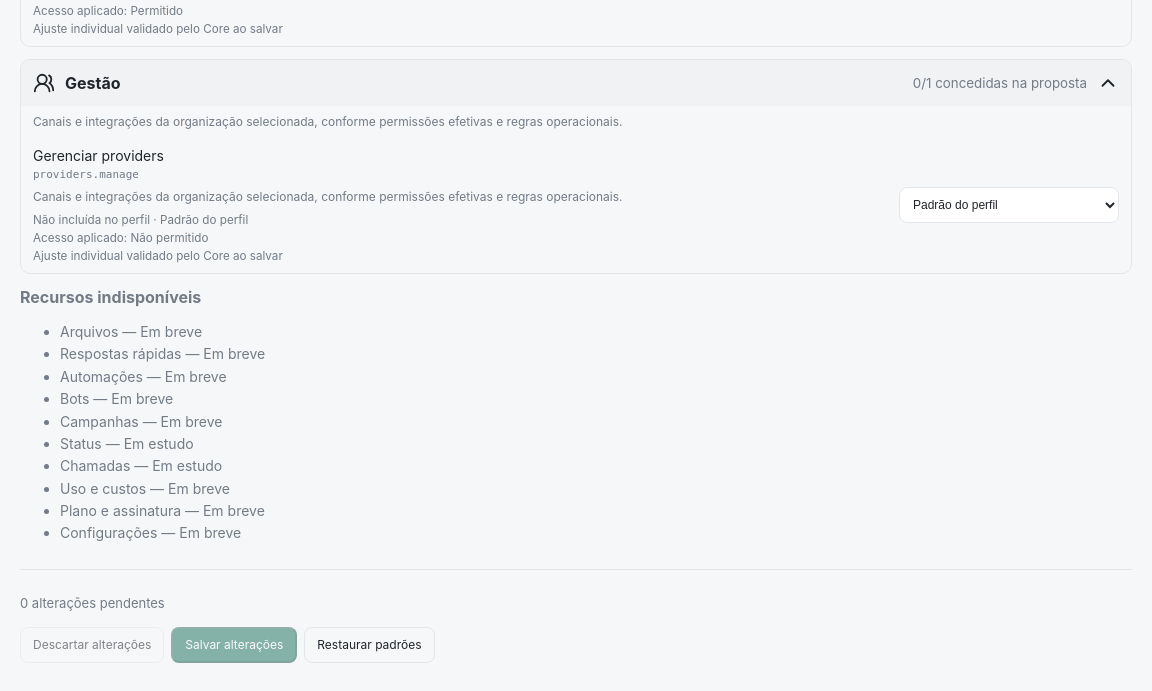
it: functional team permissions › restores defaults through the API after confirmation and supports Escape with focus return
This screenshot has width=1152, height=691.
(page scrolled)
Click the button "Restaurar padrões" at (369,645), box [304, 627, 435, 663]
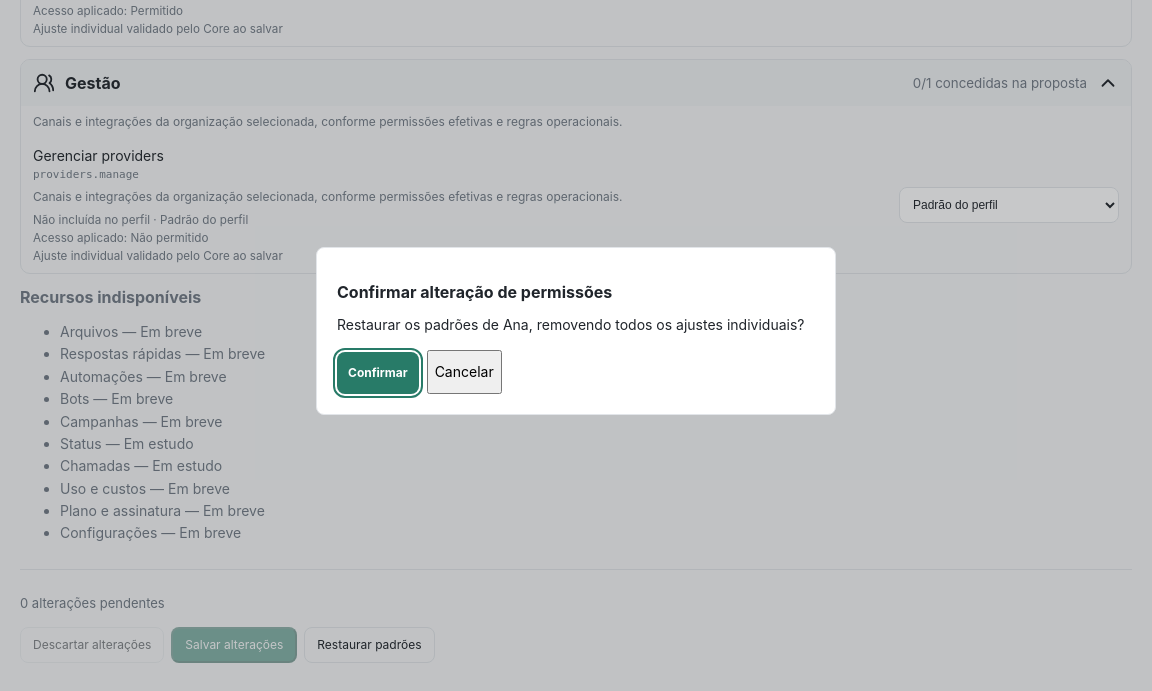
Press Escape in the button "Confirmar", box [337, 352, 419, 394]
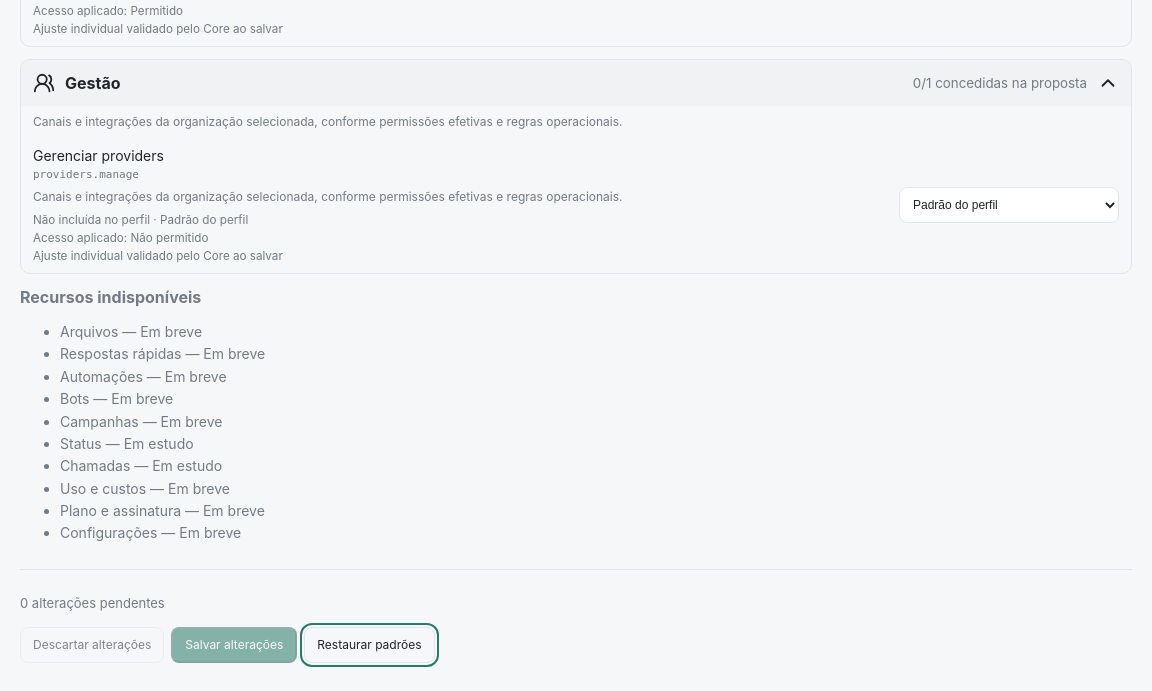
Click the button "Restaurar padrões" at (369,645), box [304, 627, 435, 663]
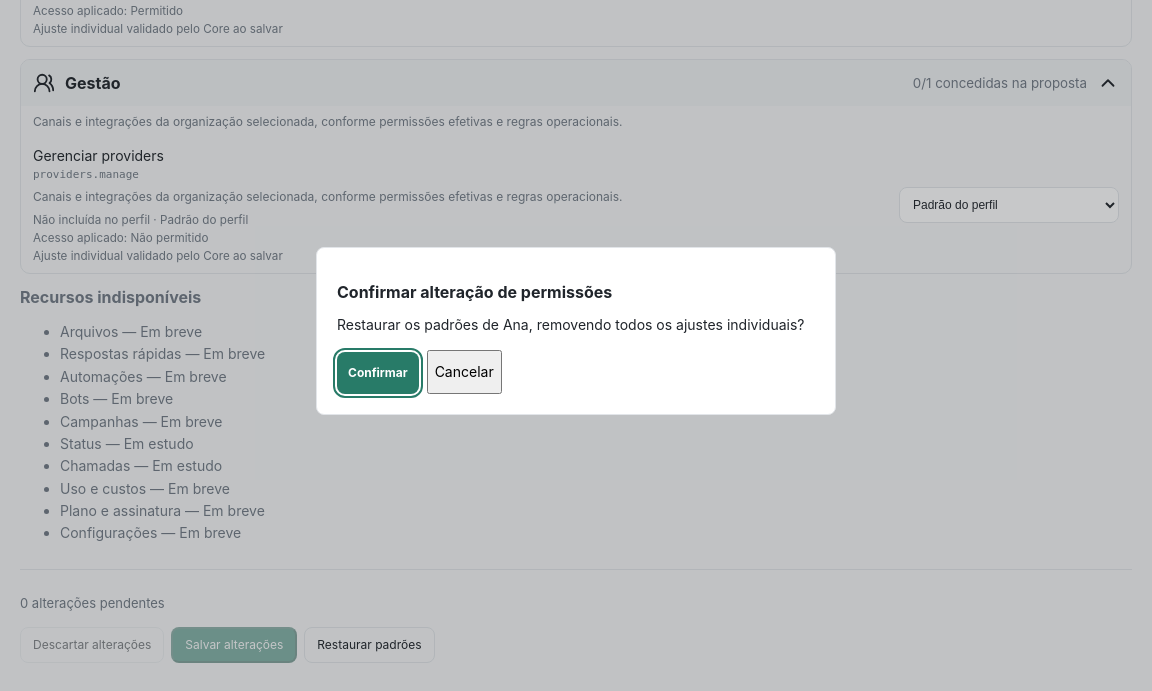
Click the button "Confirmar" at (378,373), box [337, 352, 419, 394]
(page scrolled)
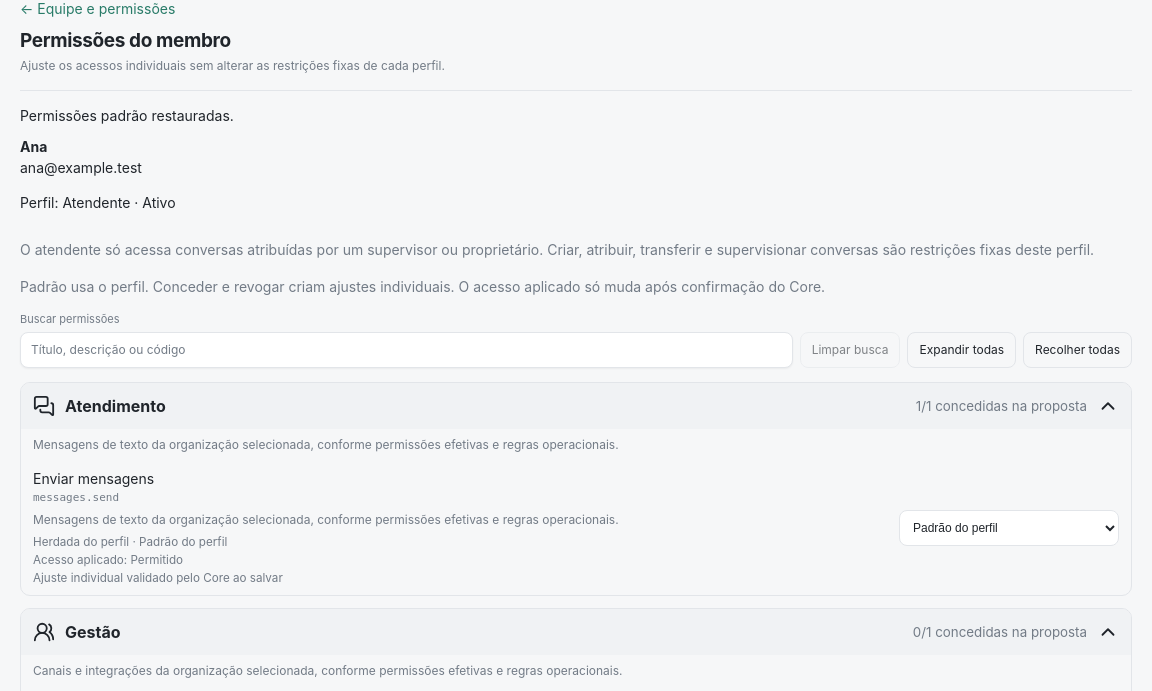
Expected: the text "Permissões padrão restauradas." is shown, [20, 107, 234, 124]
